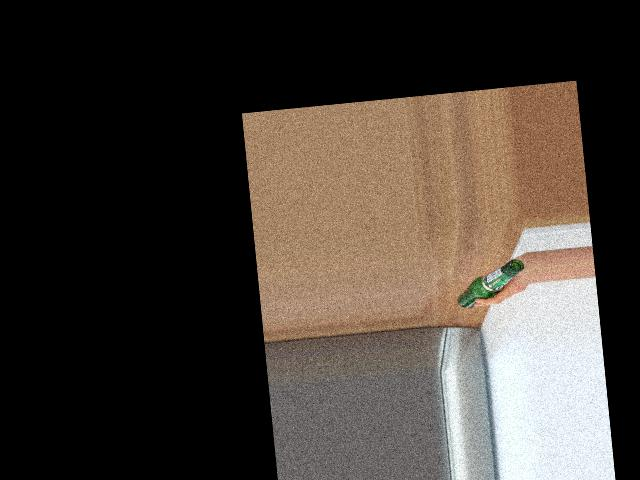beer: (454, 258, 528, 308)
